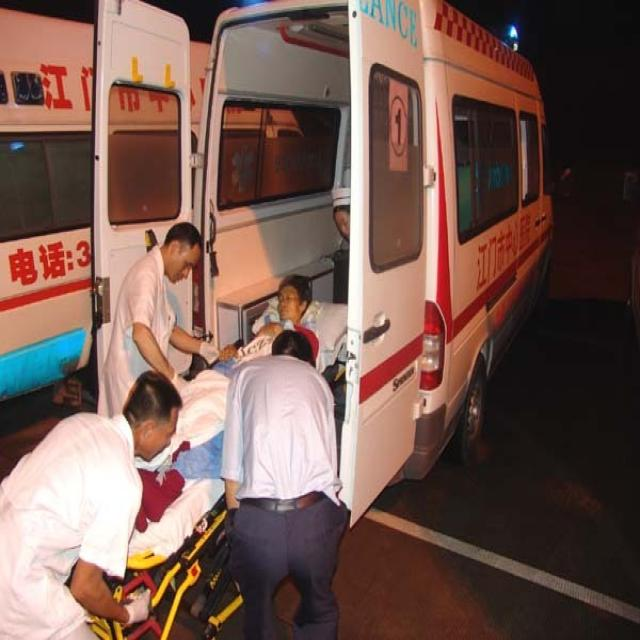emergency-vehicle: (100, 3, 427, 481)
